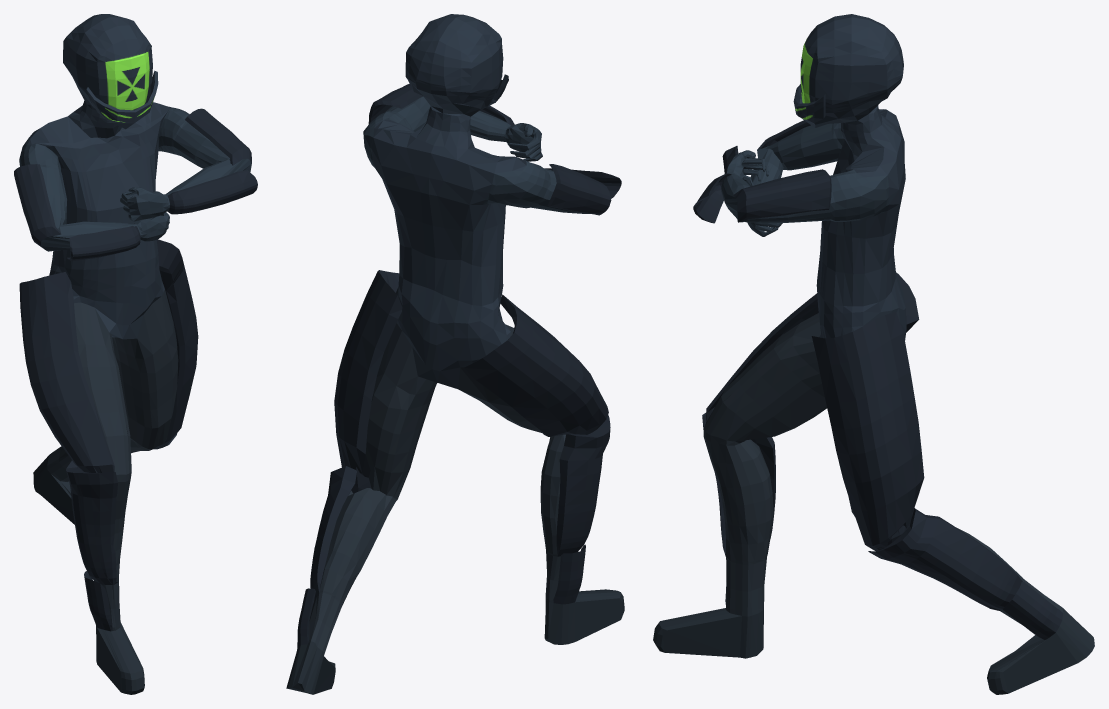
Rendered from Bastion_WL_000015.obj.
3 views of the same model, side by side, from view 1: azimuth 30°, elevation 25°; view 2: azimuth 150°, elevation 25°; view 3: azimuth 270°, elevation 25° (orthographic). The views are drawn at different scales.
Visible parts, largest first — view 1: Cube.002; view 2: Cube.002; view 3: Cube.002.
Boxes of the visible parts, x1=… form: Cube.002: x1=14, y1=14, x2=257, y2=694; Cube.002: x1=286, y1=14, x2=624, y2=694; Cube.002: x1=653, y1=14, x2=1094, y2=694.
Bounding box in the file's own units: 1.3 × 3.59 × 2.17.
